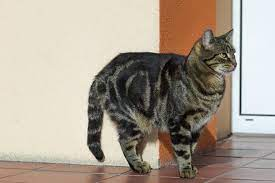cat: (87, 29, 238, 179)
